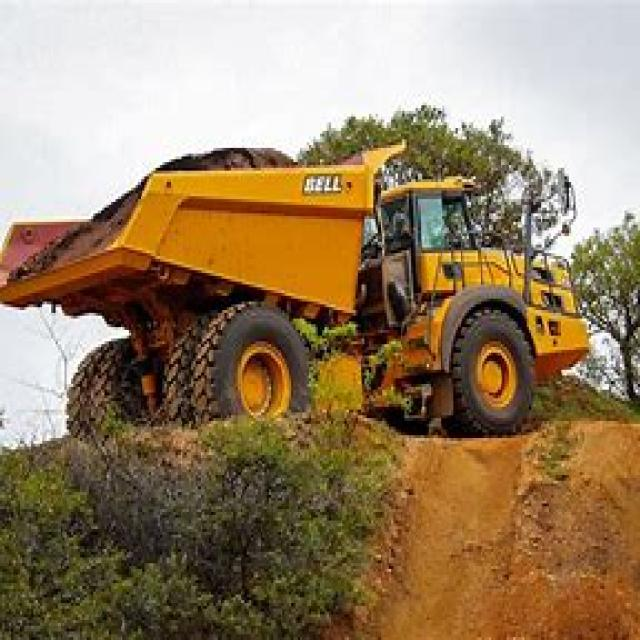dump_truck: (4, 100, 589, 450)
